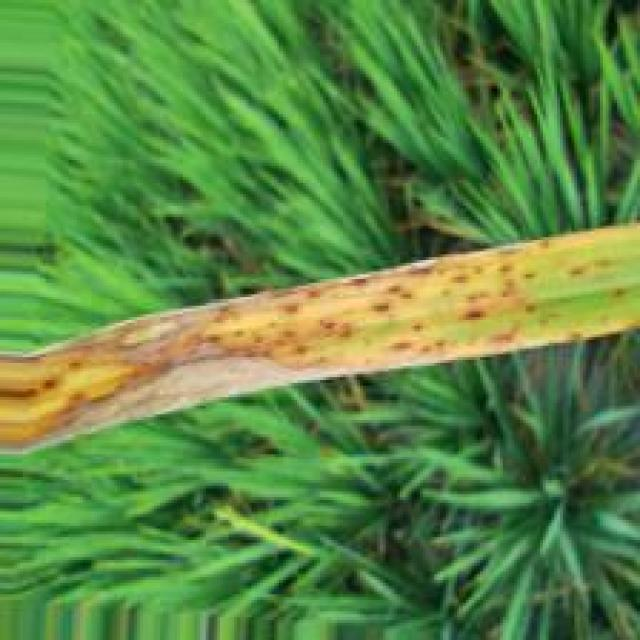Narrow_Brown_Leaf_Spot: (0, 220, 640, 458)
